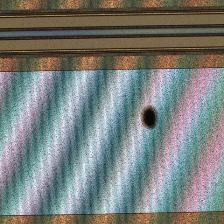PO CONTAMINATION: (134, 102, 166, 134)
